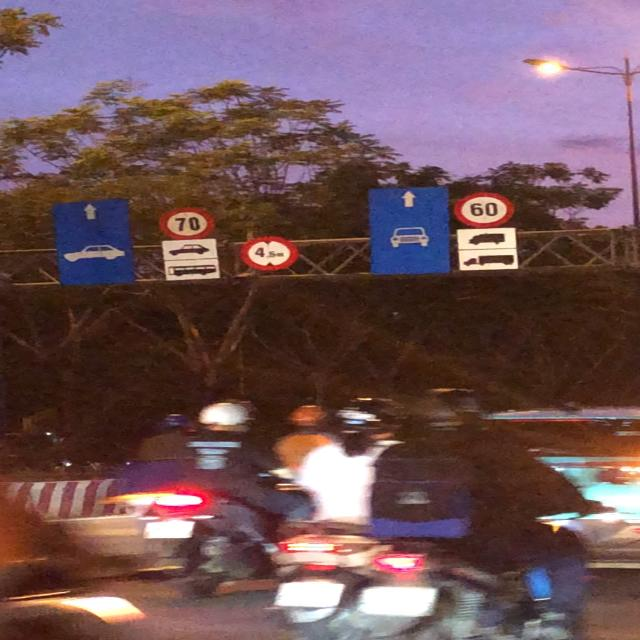Bien bao han che chieu cao: (237, 235, 306, 272)
Bien bao toc do toi da cho phep: (448, 189, 521, 230), (156, 204, 224, 240)
